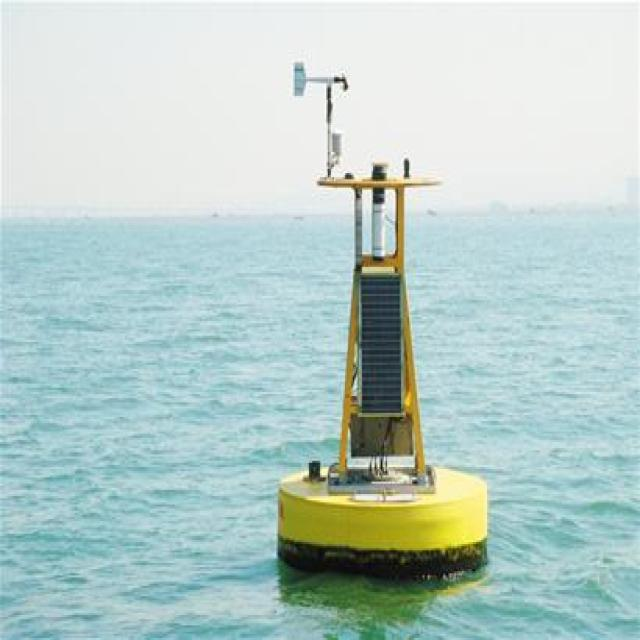buoy: (266, 118, 494, 569)
